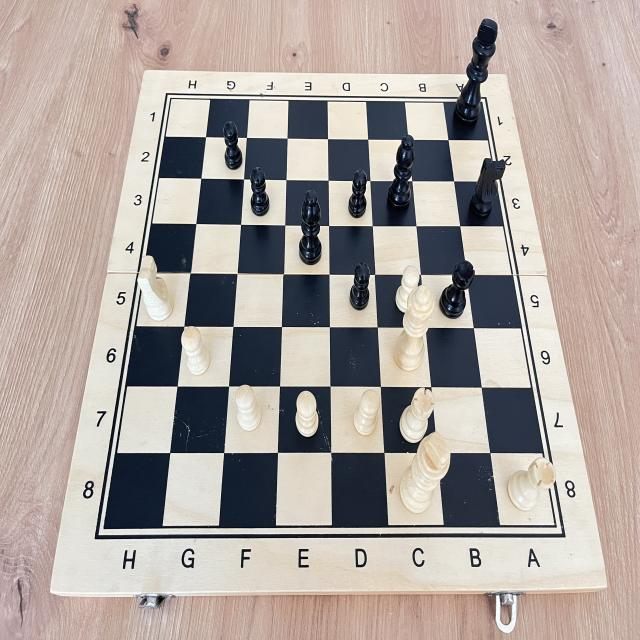black-bishop: (382, 130, 418, 222), (294, 185, 326, 269)
black-king: (445, 15, 504, 143)
black-knight: (462, 148, 513, 230)
black-pawn: (344, 159, 373, 221), (217, 118, 249, 173), (245, 160, 274, 220), (347, 258, 375, 316)
black-rook: (436, 252, 479, 329)
white-bishop: (133, 251, 177, 327)
white-king: (392, 426, 456, 516)
white-pawn: (228, 378, 266, 439), (286, 383, 324, 442), (349, 379, 385, 440), (392, 260, 425, 320), (179, 322, 213, 380)
white-queen: (390, 279, 438, 376)
white-rook: (503, 450, 558, 518), (396, 380, 439, 451)
